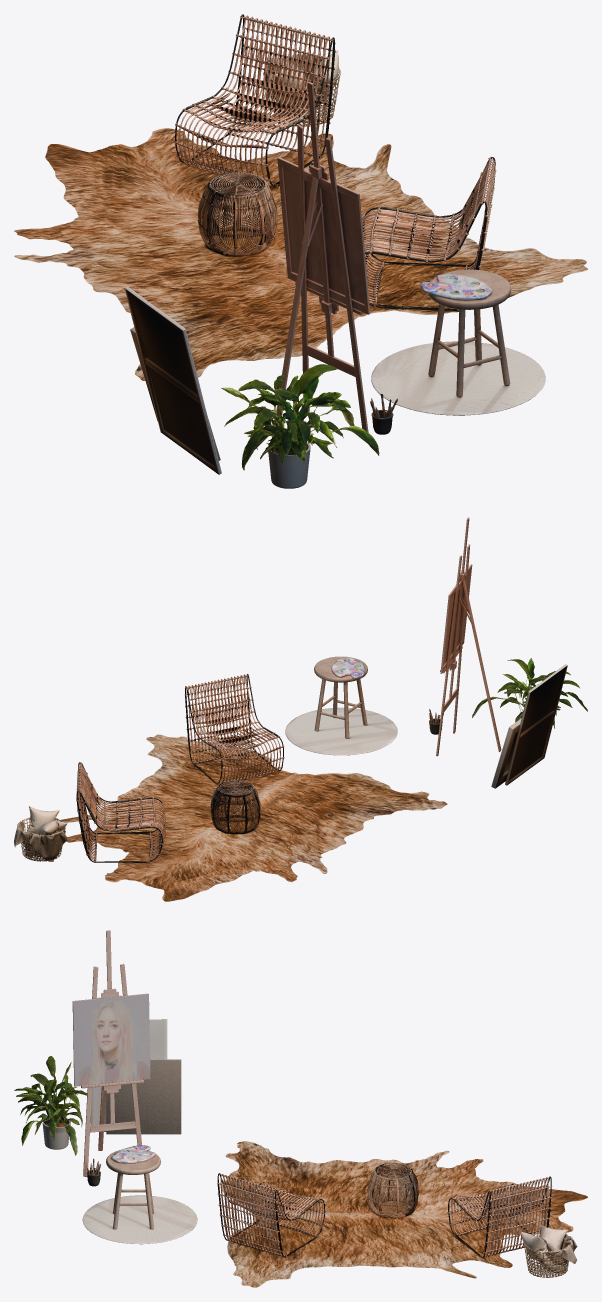
File: Light6thoffice.glb
3 renders of one model, top to bottom at view 1: azimuth 30°, elevation 25°; view 2: azimuth 150°, elevation 25°; view 3: azimuth 270°, elevation 25°, orthographic. The views are drawn at different scales.
Parts seen in each view (by area): view 1: cowrug_Baked, Rattan Knot Chair2_Baked.001, Round embossed flower carpet_Baked, CornerPlant2_Baked, Sankofa_Baked, PillowBasket_Baked, CornerPlant2pot_Baked; view 2: cowrug_Baked, Rattan Knot Chair2_Baked.001, Round embossed flower carpet_Baked, Sankofa_Baked, PillowBasket_Baked, CornerPlant2_Baked; view 3: cowrug_Baked, Rattan Knot Chair2_Baked.001, Round embossed flower carpet_Baked, CornerPlant2_Baked, Sankofa_Baked, PillowBasket_Baked, CornerPlant2pot_Baked.
Part boxes in pixels (<box>): cowrug_Baked: <box>14,81,587,474</box>; Rattan Knot Chair2_Baked.001: <box>174,14,496,311</box>; Round embossed flower carpet_Baked: <box>371,341,545,415</box>; CornerPlant2_Baked: <box>221,364,379,470</box>; Sankofa_Baked: <box>197,172,277,256</box>; PillowBasket_Baked: <box>263,50,340,126</box>; CornerPlant2pot_Baked: <box>268,442,310,488</box>; cowrug_Baked: <box>58,517,567,901</box>; Rattan Knot Chair2_Baked.001: <box>76,674,284,862</box>; Round embossed flower carpet_Baked: <box>285,707,397,755</box>; Sankofa_Baked: <box>210,780,260,833</box>; PillowBasket_Baked: <box>14,806,67,861</box>; CornerPlant2_Baked: <box>472,658,587,728</box>; cowrug_Baked: <box>72,930,587,1287</box>; Rattan Knot Chair2_Baked.001: <box>217,1173,552,1257</box>; Round embossed flower carpet_Baked: <box>82,1195,197,1244</box>; CornerPlant2_Baked: <box>14,1056,87,1155</box>; Sankofa_Baked: <box>367,1163,418,1217</box>; PillowBasket_Baked: <box>521,1224,577,1277</box>; CornerPlant2pot_Baked: <box>42,1118,70,1149</box>.
Bounding box in the file's own units: 2.65 × 1.71 × 3.8.
15 materials, 15 textured.
